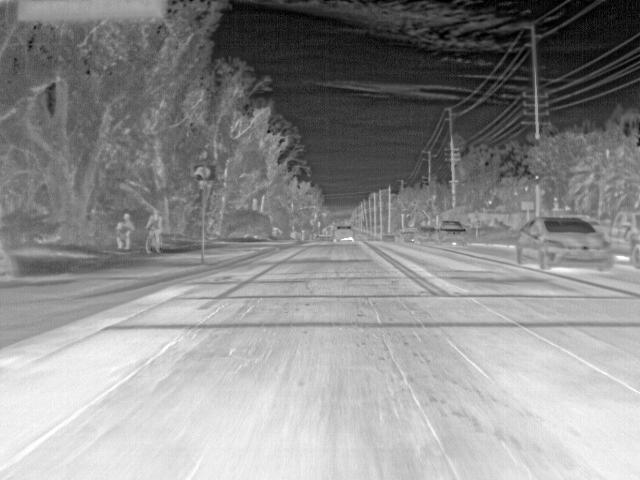car: (515, 216, 615, 271), (613, 210, 640, 264), (439, 219, 469, 244), (333, 225, 355, 243), (418, 224, 438, 243), (402, 226, 416, 243), (382, 232, 395, 244)
person: (115, 210, 135, 251), (147, 209, 163, 235)
